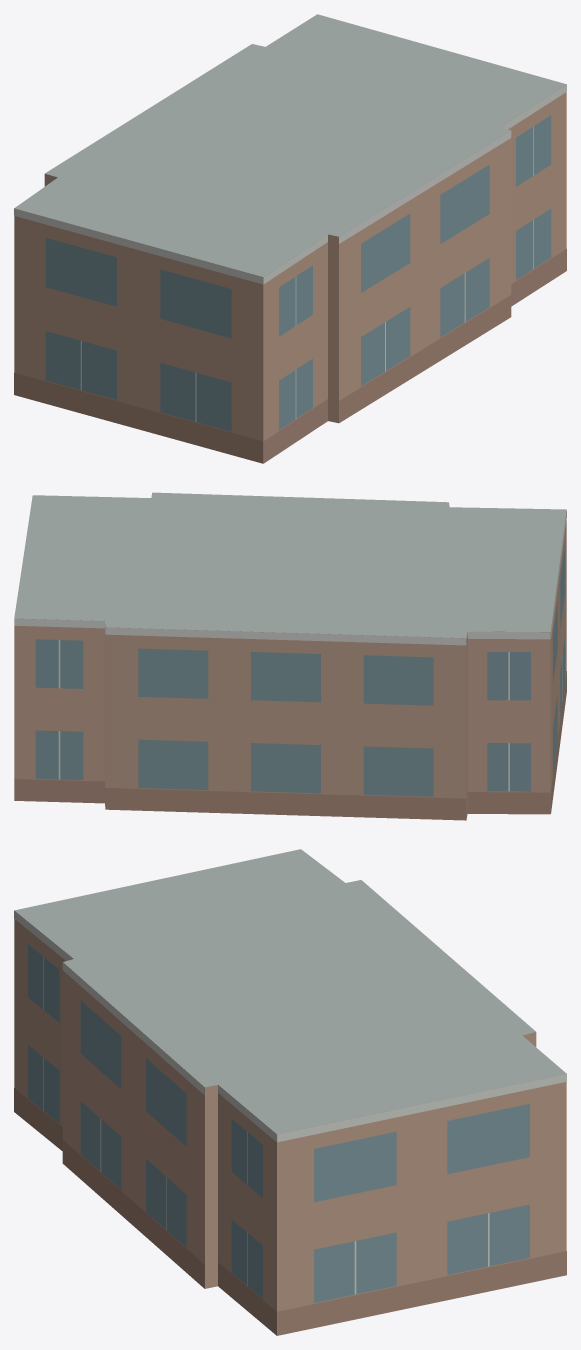
The model's file is survey-upis-32984186.glb.
3 views of the same model, one above another, from view 1: azimuth 30°, elevation 25°; view 2: azimuth 150°, elevation 25°; view 3: azimuth 270°, elevation 25° (orthographic). The views are drawn at different scales.
Visible parts, largest first — view 1: survey-upis-32984186.tmp; view 2: survey-upis-32984186.tmp; view 3: survey-upis-32984186.tmp.
Part boxes in pixels (bbox=[...]): survey-upis-32984186.tmp: bbox=[14, 14, 566, 463]; survey-upis-32984186.tmp: bbox=[14, 492, 566, 820]; survey-upis-32984186.tmp: bbox=[14, 849, 566, 1335].
Size of the model in its own units: 18.54 by 6.1 by 15.18.
